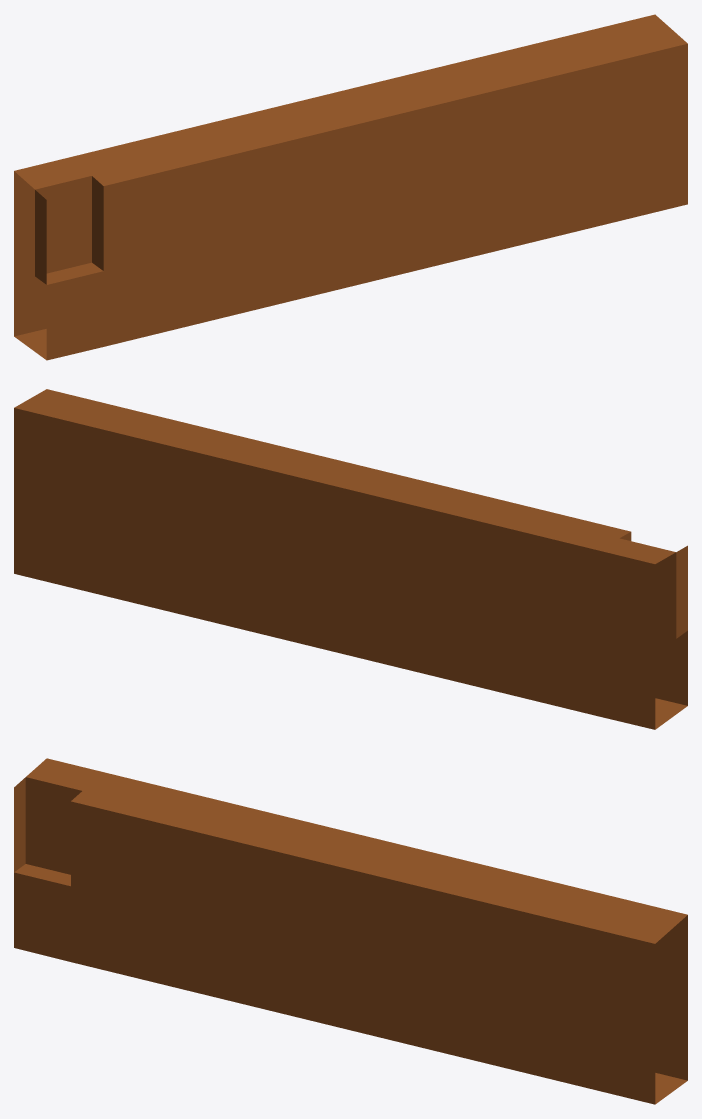
The model's file is wandbalken_repeat.FBX.
3 views of the same model, one above another, from view 1: azimuth 30°, elevation 25°; view 2: azimuth 150°, elevation 25°; view 3: azimuth 330°, elevation 25° (orthographic).
Parts seen in each view (by area): view 1: wandbalken_repeat; view 2: wandbalken_repeat; view 3: wandbalken_repeat.
Boxes of the visible parts, x1=… form: wandbalken_repeat: x1=14, y1=14, x2=687, y2=360; wandbalken_repeat: x1=14, y1=389, x2=687, y2=729; wandbalken_repeat: x1=14, y1=758, x2=687, y2=1104.
Bounding box in the file's own units: 7.9 × 1.95 × 0.7.
